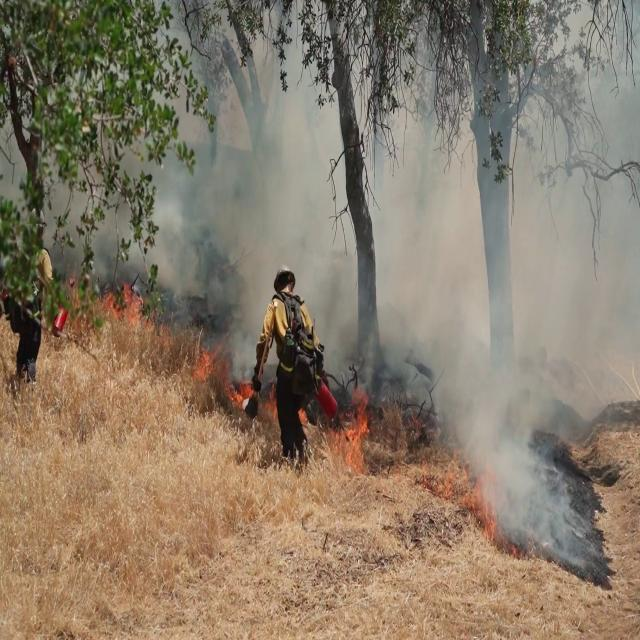Fire: (92, 292, 166, 354), (342, 385, 381, 484)
Smoke: (153, 54, 640, 336), (388, 69, 640, 556)
